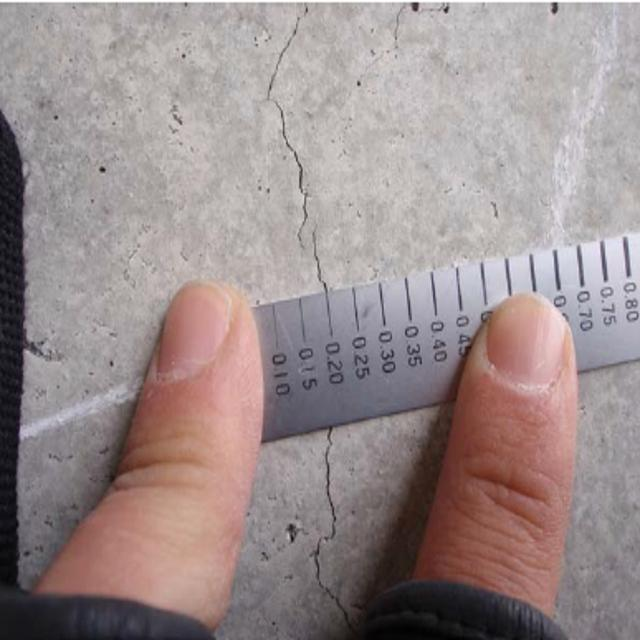crack: (259, 15, 357, 298), (314, 436, 363, 630)
